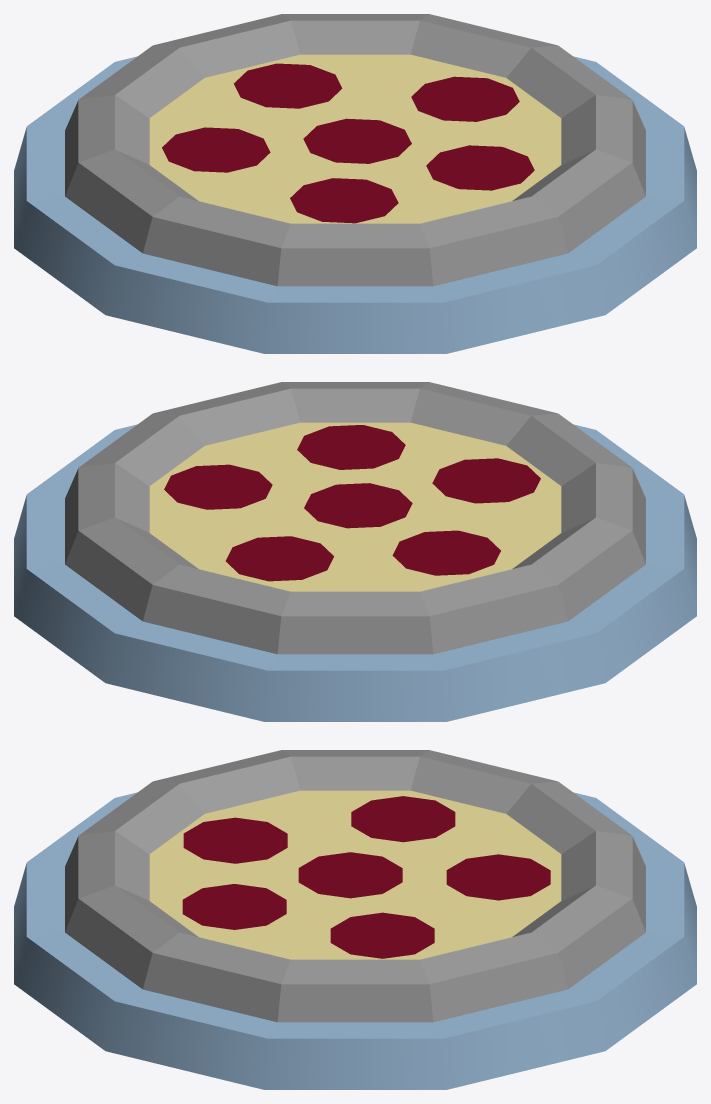
The model's file is Teller_Pizza.FBX.
3 renders of one model, top to bottom at view 1: azimuth 30°, elevation 25°; view 2: azimuth 150°, elevation 25°; view 3: azimuth 270°, elevation 25°, orthographic.
Visible parts, largest first — view 1: Pizza; view 2: Pizza; view 3: Pizza.
Boxes of the visible parts, x1,y1,x2,y2 form: Pizza: [14, 14, 696, 353]; Pizza: [14, 382, 696, 721]; Pizza: [14, 750, 696, 1089].
Bounding box in the file's own units: 19.4 × 2.74 × 19.4.
